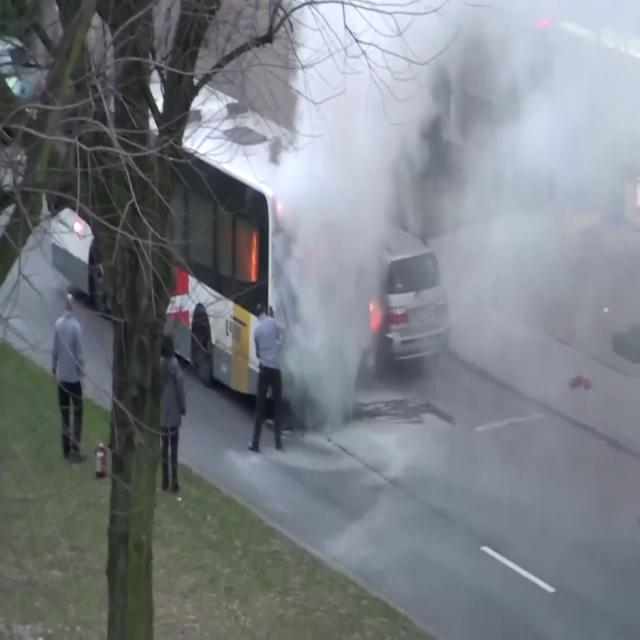Smoke: (264, 1, 628, 427)
